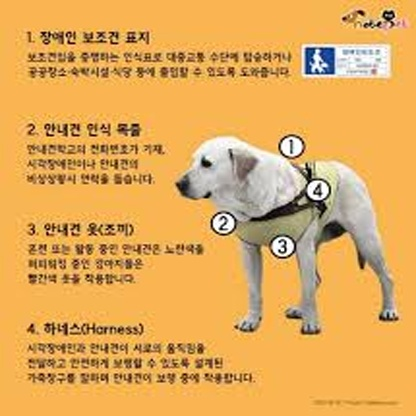guide-dog: (175, 127, 412, 330)
